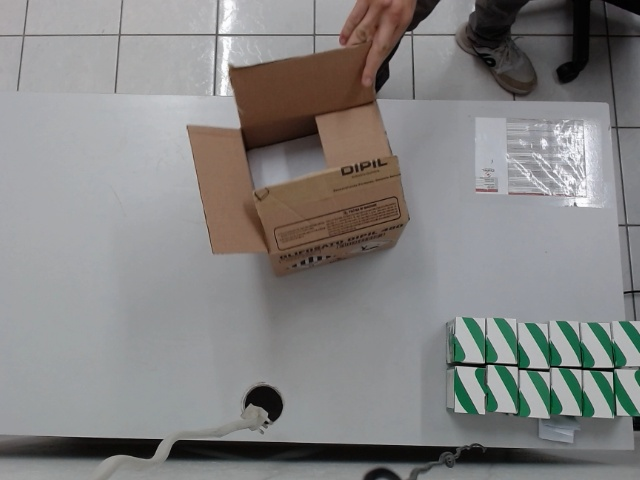caixa_principal: (166, 40, 426, 284)
